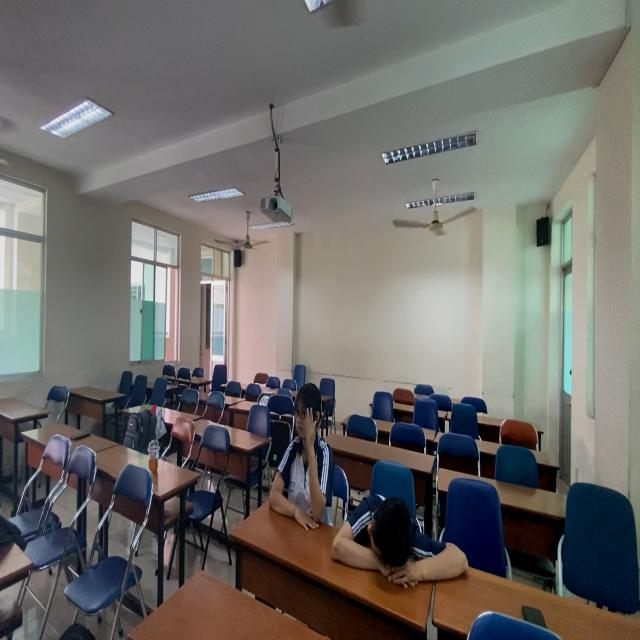raise_hand: (267, 383, 329, 531)
sleep: (329, 491, 472, 588)
